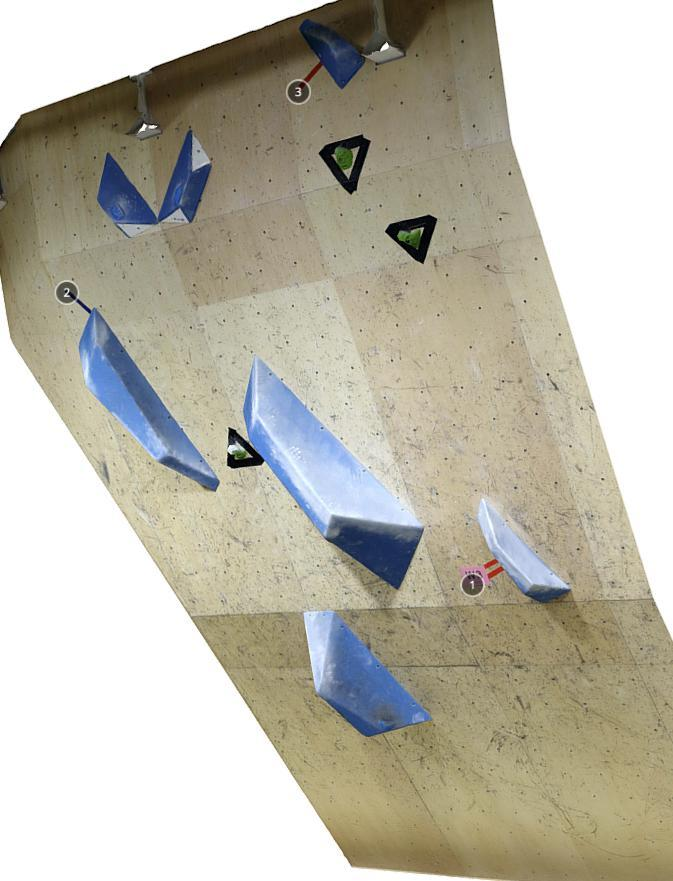hold: (242, 355, 425, 592), (79, 304, 221, 492), (303, 610, 434, 738), (477, 498, 572, 604), (96, 153, 159, 239), (157, 130, 212, 223), (318, 134, 371, 195), (385, 214, 438, 264), (227, 426, 264, 468)
